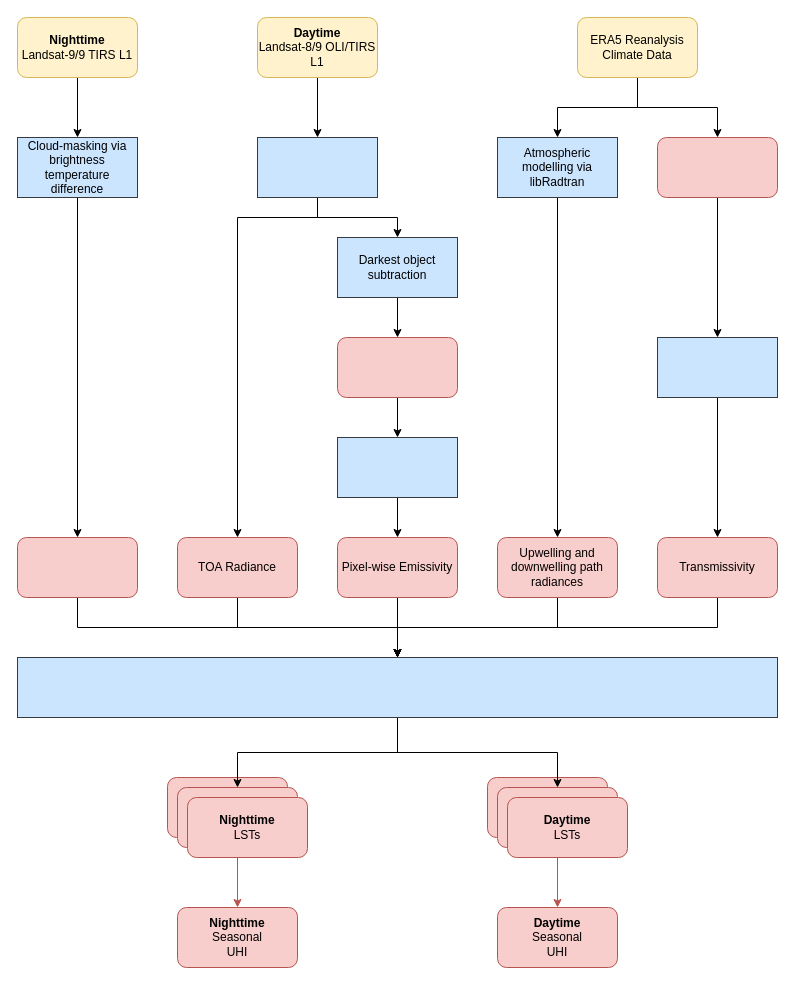
Some shapes in this 795 by 985 pixel diagram are drawn without their labels. The shapes that lost their labels are listed below. From the top down, each one's box as (x1, y1, x2, y2) in pixels, then its label:
(256, 136, 378, 198): Quality masking via QA_PIXEL and QA_Radsat
(656, 136, 778, 198): Water content
(336, 336, 458, 398): Surface Reflectance
(656, 336, 778, 398): Transmissivity relationships
(336, 436, 458, 498): NDVI, NDBI, NDWI
(16, 536, 138, 598): TOA Brightness Temperature
(16, 656, 778, 718): Radiative Transfer Modelling
